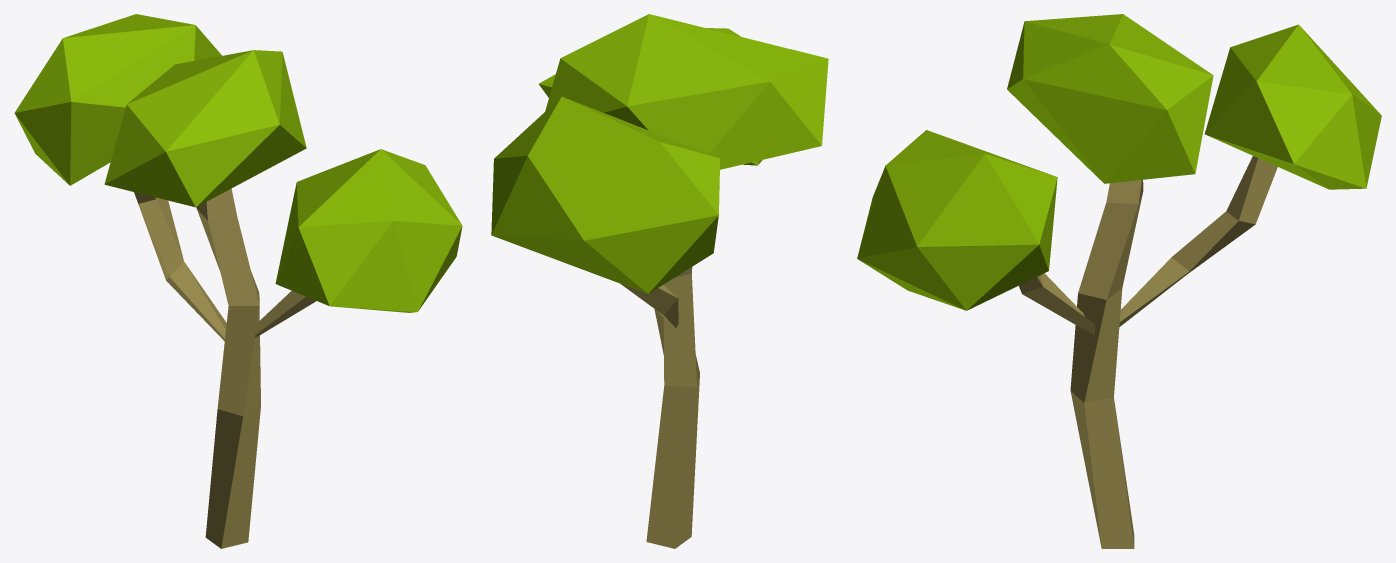
The model's file is Tree_Summer_9.fbx.
3 views of the same model, side by side, from view 1: azimuth 30°, elevation 25°; view 2: azimuth 150°, elevation 25°; view 3: azimuth 270°, elevation 25° (orthographic). The views are drawn at different scales.
Visible parts, largest first — view 1: Leaves.001, Leaves.002, Leaves, Trunk, Trunk.002, Trunk.001; view 2: Leaves, Leaves.002, Trunk, Trunk.002; view 3: Leaves.001, Leaves.002, Leaves, Trunk, Trunk.002, Trunk.001.
Boxes of the visible parts, box(x1,y1,x2,y2) form: Leaves.001: box(275, 149, 462, 312); Leaves.002: box(104, 50, 306, 207); Leaves: box(14, 14, 221, 185); Trunk: box(196, 188, 260, 548); Trunk.002: box(134, 192, 226, 340); Trunk.001: box(255, 291, 316, 337); Leaves: box(491, 96, 720, 293); Leaves.002: box(545, 14, 828, 169); Trunk: box(646, 267, 699, 548); Trunk.002: box(621, 284, 678, 327); Leaves.001: box(857, 130, 1057, 310); Leaves.002: box(1007, 14, 1213, 183); Leaves: box(1204, 24, 1381, 189); Trunk: box(1070, 179, 1143, 548); Trunk.002: box(1119, 156, 1277, 326); Trunk.001: box(1019, 273, 1095, 335).
Size of the model in its own units: 203 by 321 by 300.
